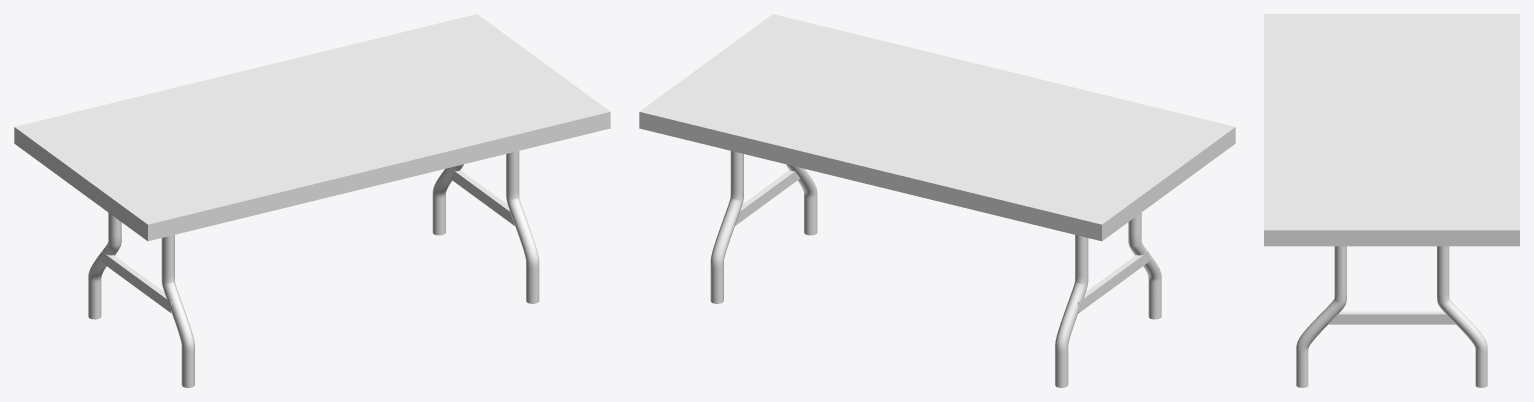
The model's file is table.glb.
3 views of the same model, side by side, from view 1: azimuth 30°, elevation 25°; view 2: azimuth 150°, elevation 25°; view 3: azimuth 270°, elevation 25° (orthographic). The views are drawn at different scales.
Parts seen in each view (by area): view 1: TableTop, leg.001, leg; view 2: TableTop, leg.001, leg; view 3: TableTop, leg.
Boxes of the visible parts, x1,y1,x2,y2 form: TableTop: (14, 14, 610, 241); leg.001: (88, 212, 194, 387); leg: (432, 151, 539, 303); TableTop: (639, 14, 1235, 241); leg.001: (1055, 212, 1161, 387); leg: (710, 151, 817, 303); TableTop: (1264, 14, 1519, 246); leg: (1296, 246, 1487, 387).
Size of the model in its own units: 4 by 1.57 by 2.
1 material, 1 textured.
